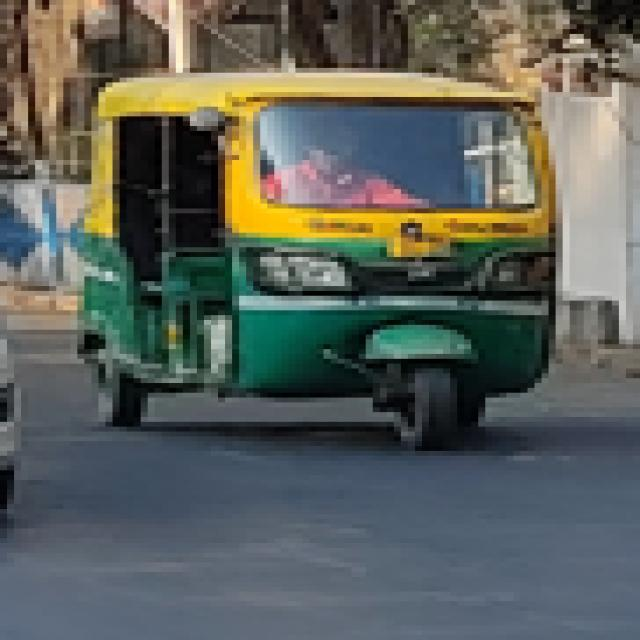autorickshaw: (56, 53, 584, 475)
